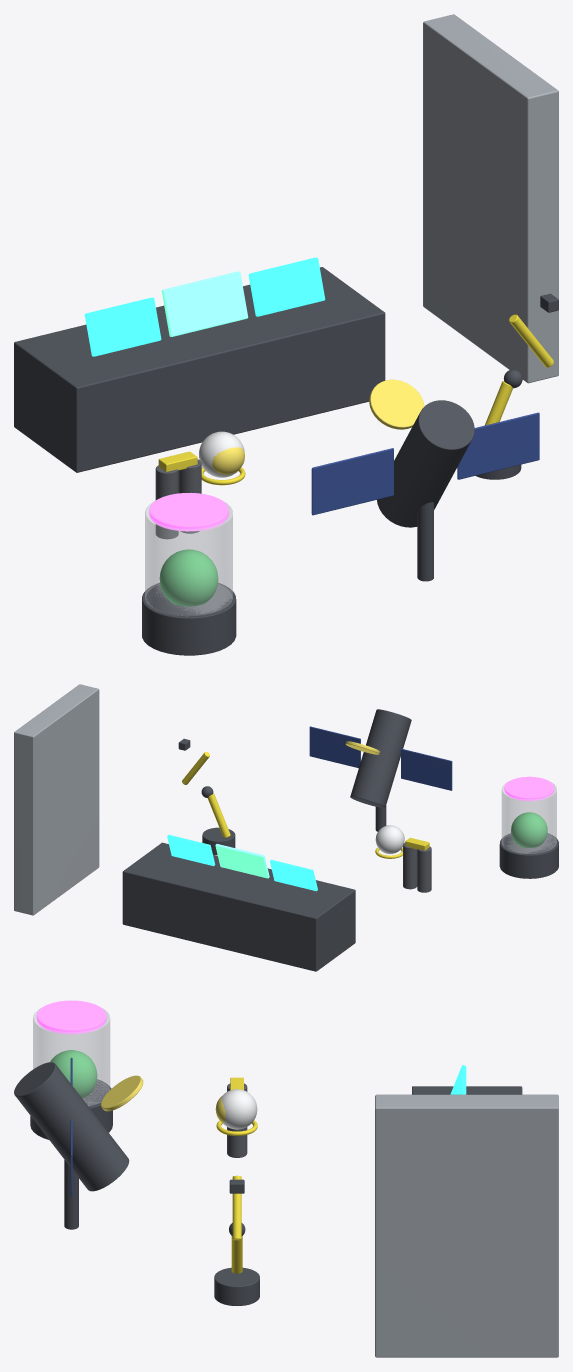
The model's file is space.gltf.
3 renders of one model, top to bottom at view 1: azimuth 30°, elevation 25°; view 2: azimuth 150°, elevation 25°; view 3: azimuth 270°, elevation 25°, orthographic. The views are drawn at different scales.
Parts seen in each view (by area): view 1: Control_Console, Airlock_Door, Space_Telescope, Hydroponic_Pod, Robotic_Arm, Oxygen_Tank, Astronaut_Helmet; view 2: Control_Console, Airlock_Door, Space_Telescope, Hydroponic_Pod, Oxygen_Tank, Robotic_Arm, Astronaut_Helmet; view 3: Airlock_Door, Space_Telescope, Hydroponic_Pod, Robotic_Arm, Astronaut_Helmet, Control_Console, Oxygen_Tank.
Boxes of the visible parts, x1=… form: Control_Console: x1=14, y1=257, x2=385, y2=472; Airlock_Door: x1=423, y1=14, x2=558, y2=383; Space_Telescope: x1=311, y1=379, x2=539, y2=581; Hydroponic_Pod: x1=142, y1=492, x2=236, y2=655; Robotic_Arm: x1=475, y1=293, x2=558, y2=479; Oxygen_Tank: x1=155, y1=451, x2=201, y2=539; Astronaut_Helmet: x1=199, y1=431, x2=245, y2=485; Control_Console: x1=122, y1=834, x2=355, y2=971; Airlock_Door: x1=14, y1=684, x2=99, y2=915; Space_Telescope: x1=309, y1=709, x2=452, y2=831; Hydroponic_Pod: x1=499, y1=776, x2=558, y2=878; Oxygen_Tank: x1=403, y1=837, x2=431, y2=892; Robotic_Arm: x1=178, y1=738, x2=235, y2=855; Astronaut_Helmet: x1=375, y1=825, x2=404, y2=858; Airlock_Door: x1=375, y1=1094, x2=558, y2=1357; Space_Telescope: x1=14, y1=1057, x2=143, y2=1229; Hydroponic_Pod: x1=30, y1=1000, x2=112, y2=1139; Robotic_Arm: x1=214, y1=1175, x2=259, y2=1305; Astronaut_Helmet: x1=215, y1=1089, x2=257, y2=1135; Control_Console: x1=412, y1=1065, x2=522, y2=1094; Oxygen_Tank: x1=227, y1=1077, x2=247, y2=1157.
Size of what is drawn, in the model's own units: 6.42 by 3 by 5.93.
